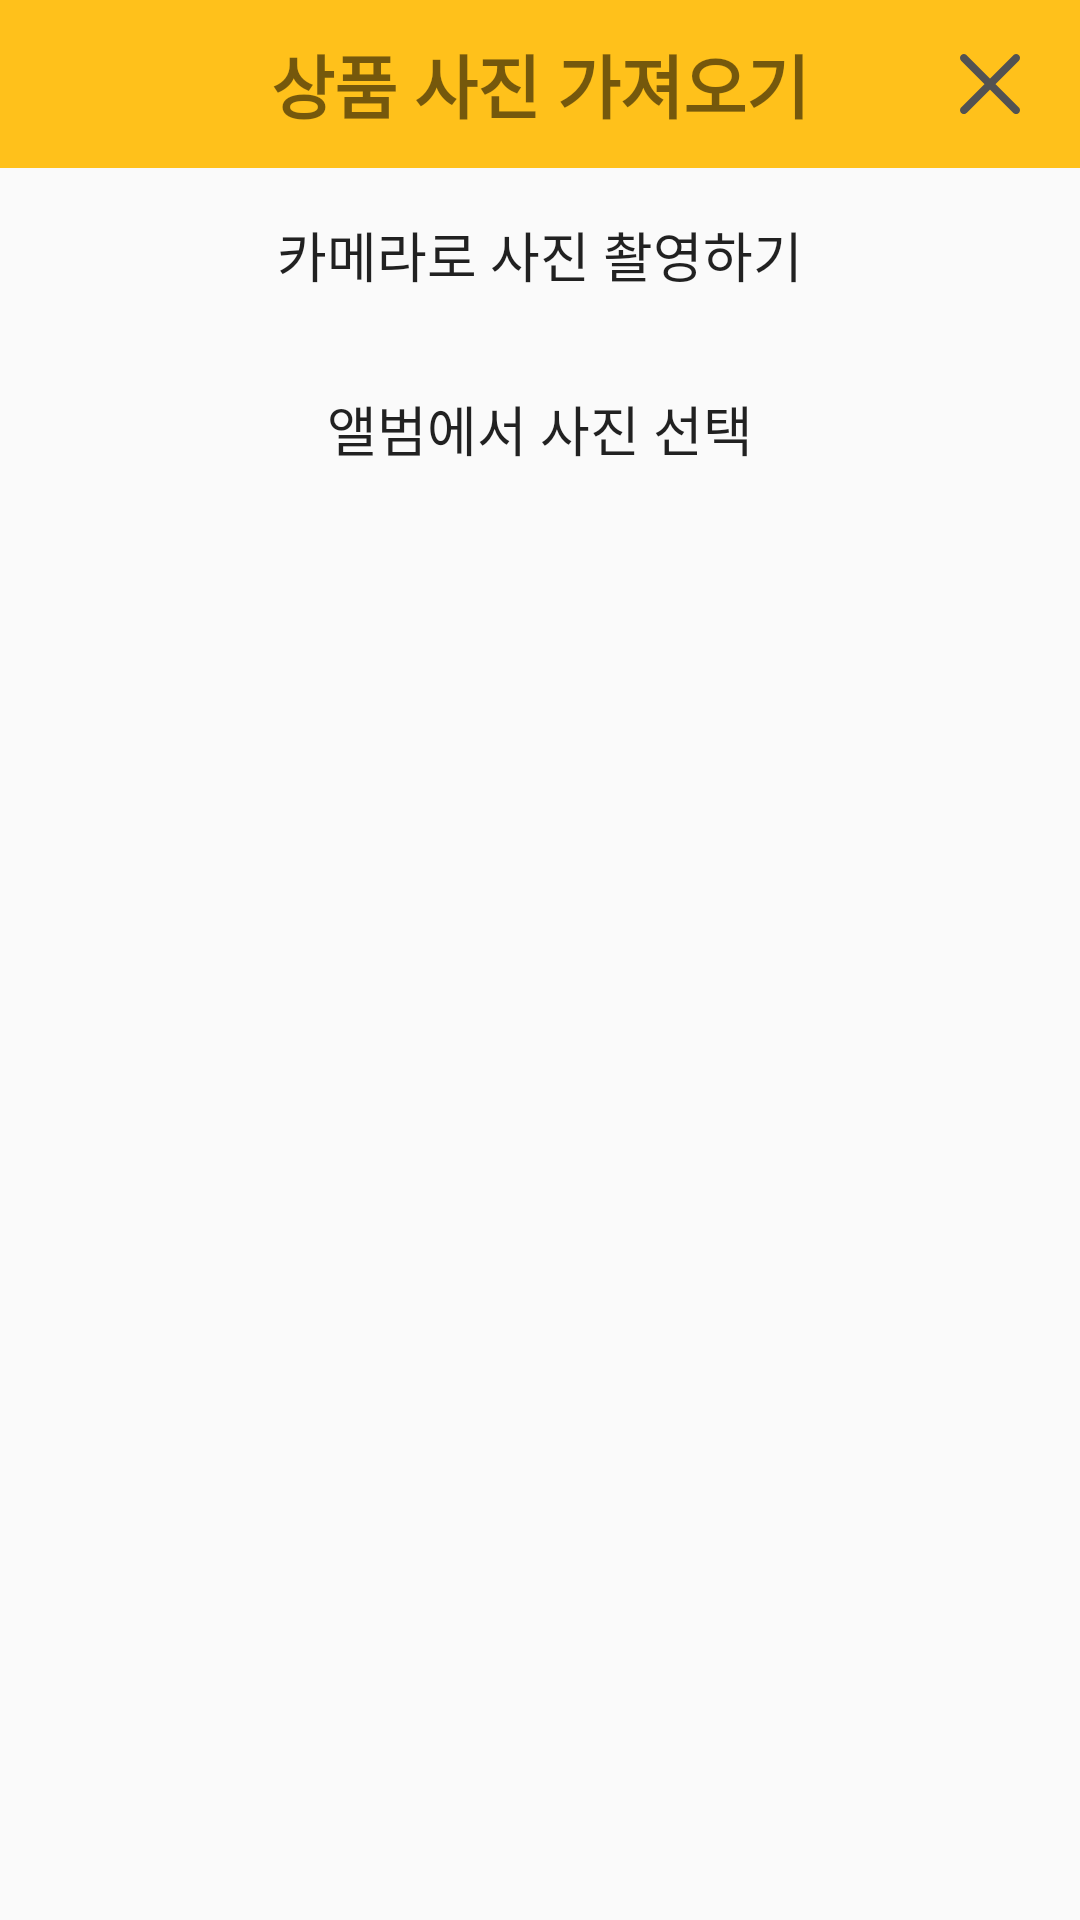

Icons on this 1080 x 1920 Android screen, each with its box as (x1, y1, x2, y2):
close: (960, 54, 1020, 114)
